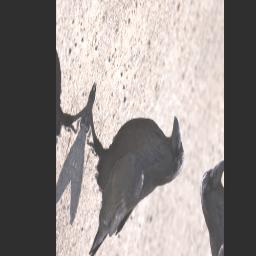Crow: (58, 51, 193, 256)
